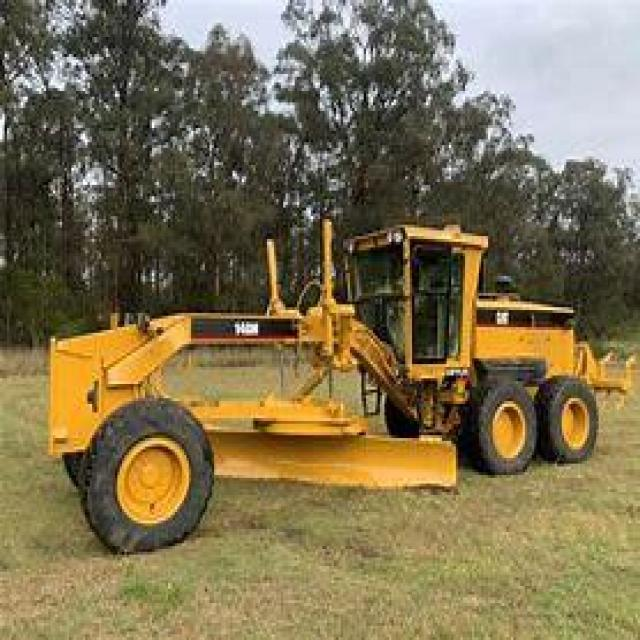Grader: (27, 211, 628, 563)
